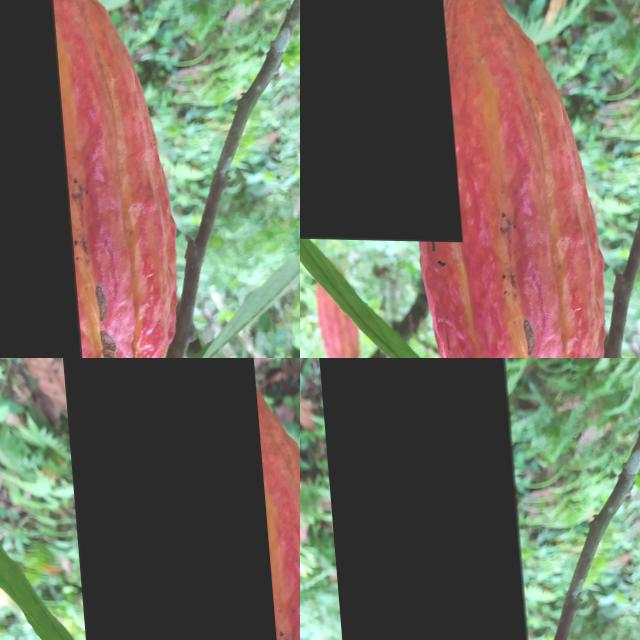Sana: (317, 358, 537, 640), (57, 358, 276, 640), (300, 0, 456, 240), (0, 0, 75, 358)
